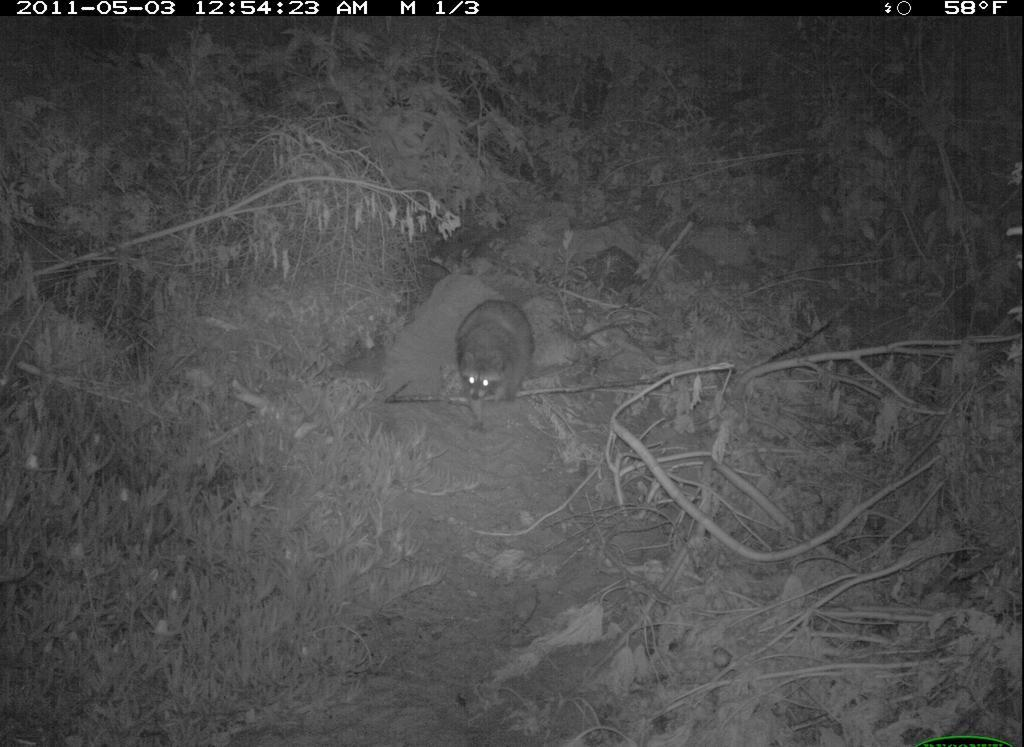raccoon: (451, 295, 541, 411)
